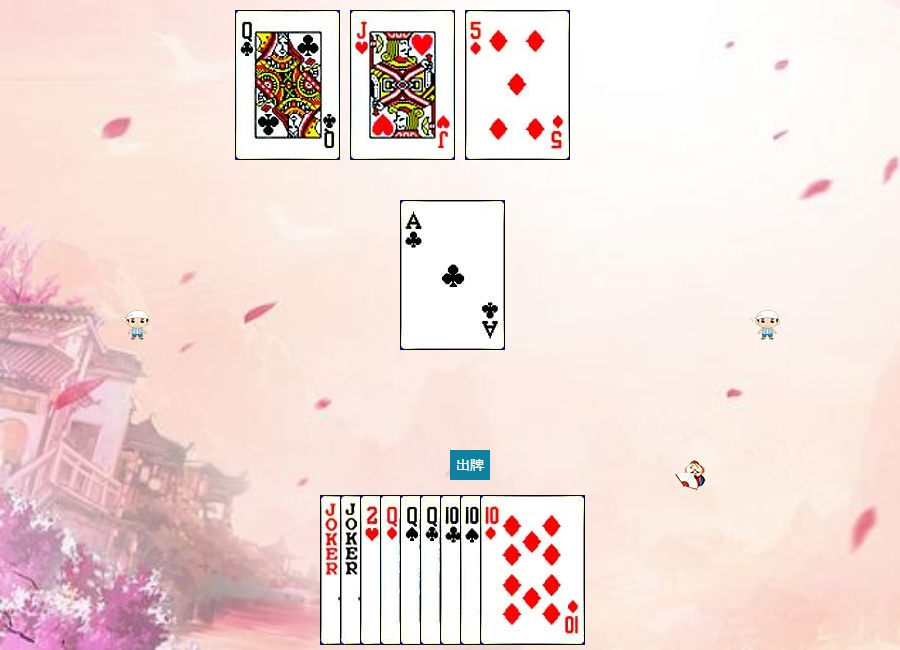10~1: (480, 495, 585, 645)
10~2: (440, 495, 545, 645)
10~4: (460, 495, 565, 645)
11~3: (350, 10, 455, 160)
12~1: (380, 495, 485, 645)
12~2: (235, 10, 340, 160), (420, 495, 525, 645)
12~4: (400, 495, 505, 645)
14~2: (400, 200, 505, 350)
15~3: (360, 495, 465, 645)
17~3: (340, 495, 445, 645)
18~4: (320, 495, 425, 645)
5~1: (465, 10, 570, 160)
